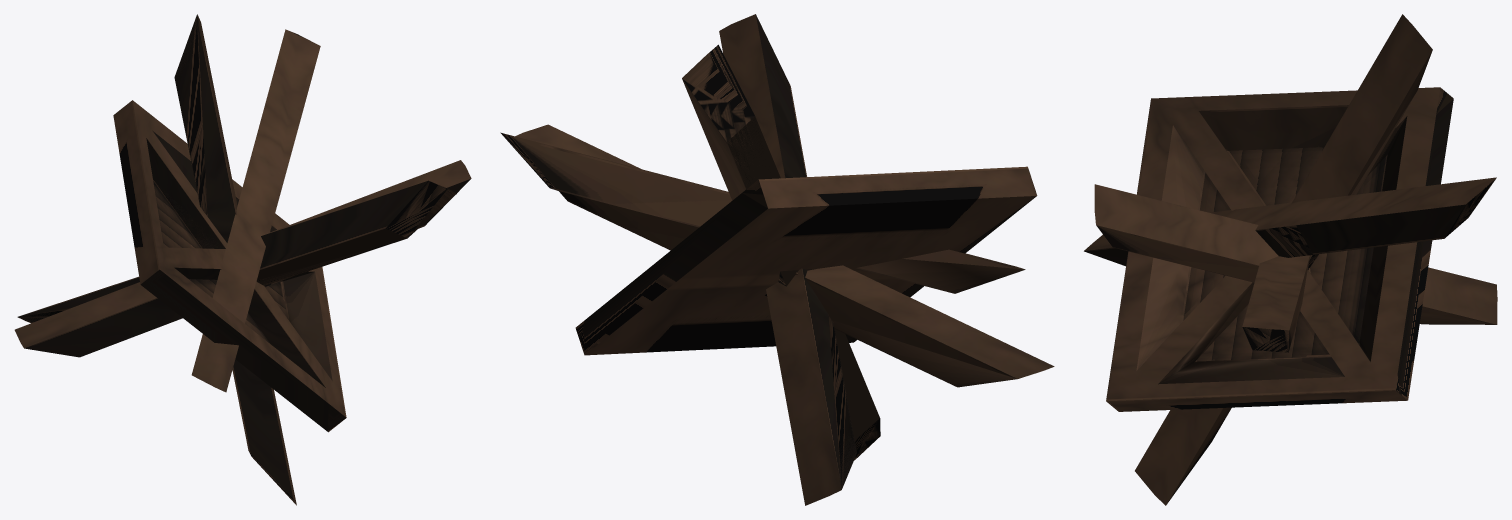
File: wood.glb
The picture shows the model from 3 angles, left to right: view 1: azimuth 30°, elevation 25°; view 2: azimuth 150°, elevation 25°; view 3: azimuth 270°, elevation 25°; orthographic projection. The views are drawn at different scales.
Visible parts, largest first — view 1: Cube.001; view 2: Cube.001; view 3: Cube.001.
Boxes of the visible parts, left/top/right/bottom form: Cube.001: left=14, top=14, right=471, bottom=505; Cube.001: left=500, top=14, right=1054, bottom=505; Cube.001: left=1084, top=14, right=1497, bottom=505.
Size of the model in its own units: 1.9 by 1.73 by 1.32.
Materials: 1 (1 with a texture image).
